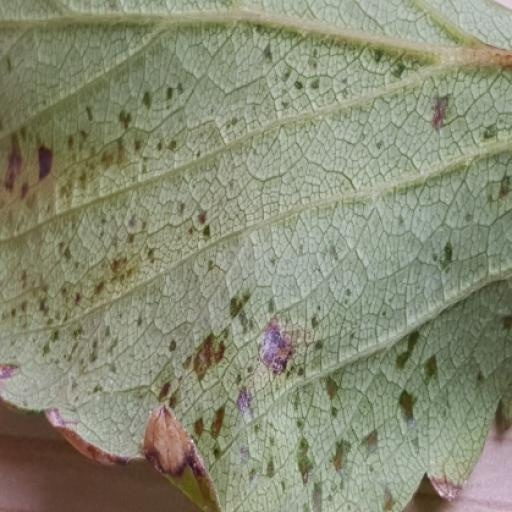Angular Leafspot: (0, 20, 511, 511)
